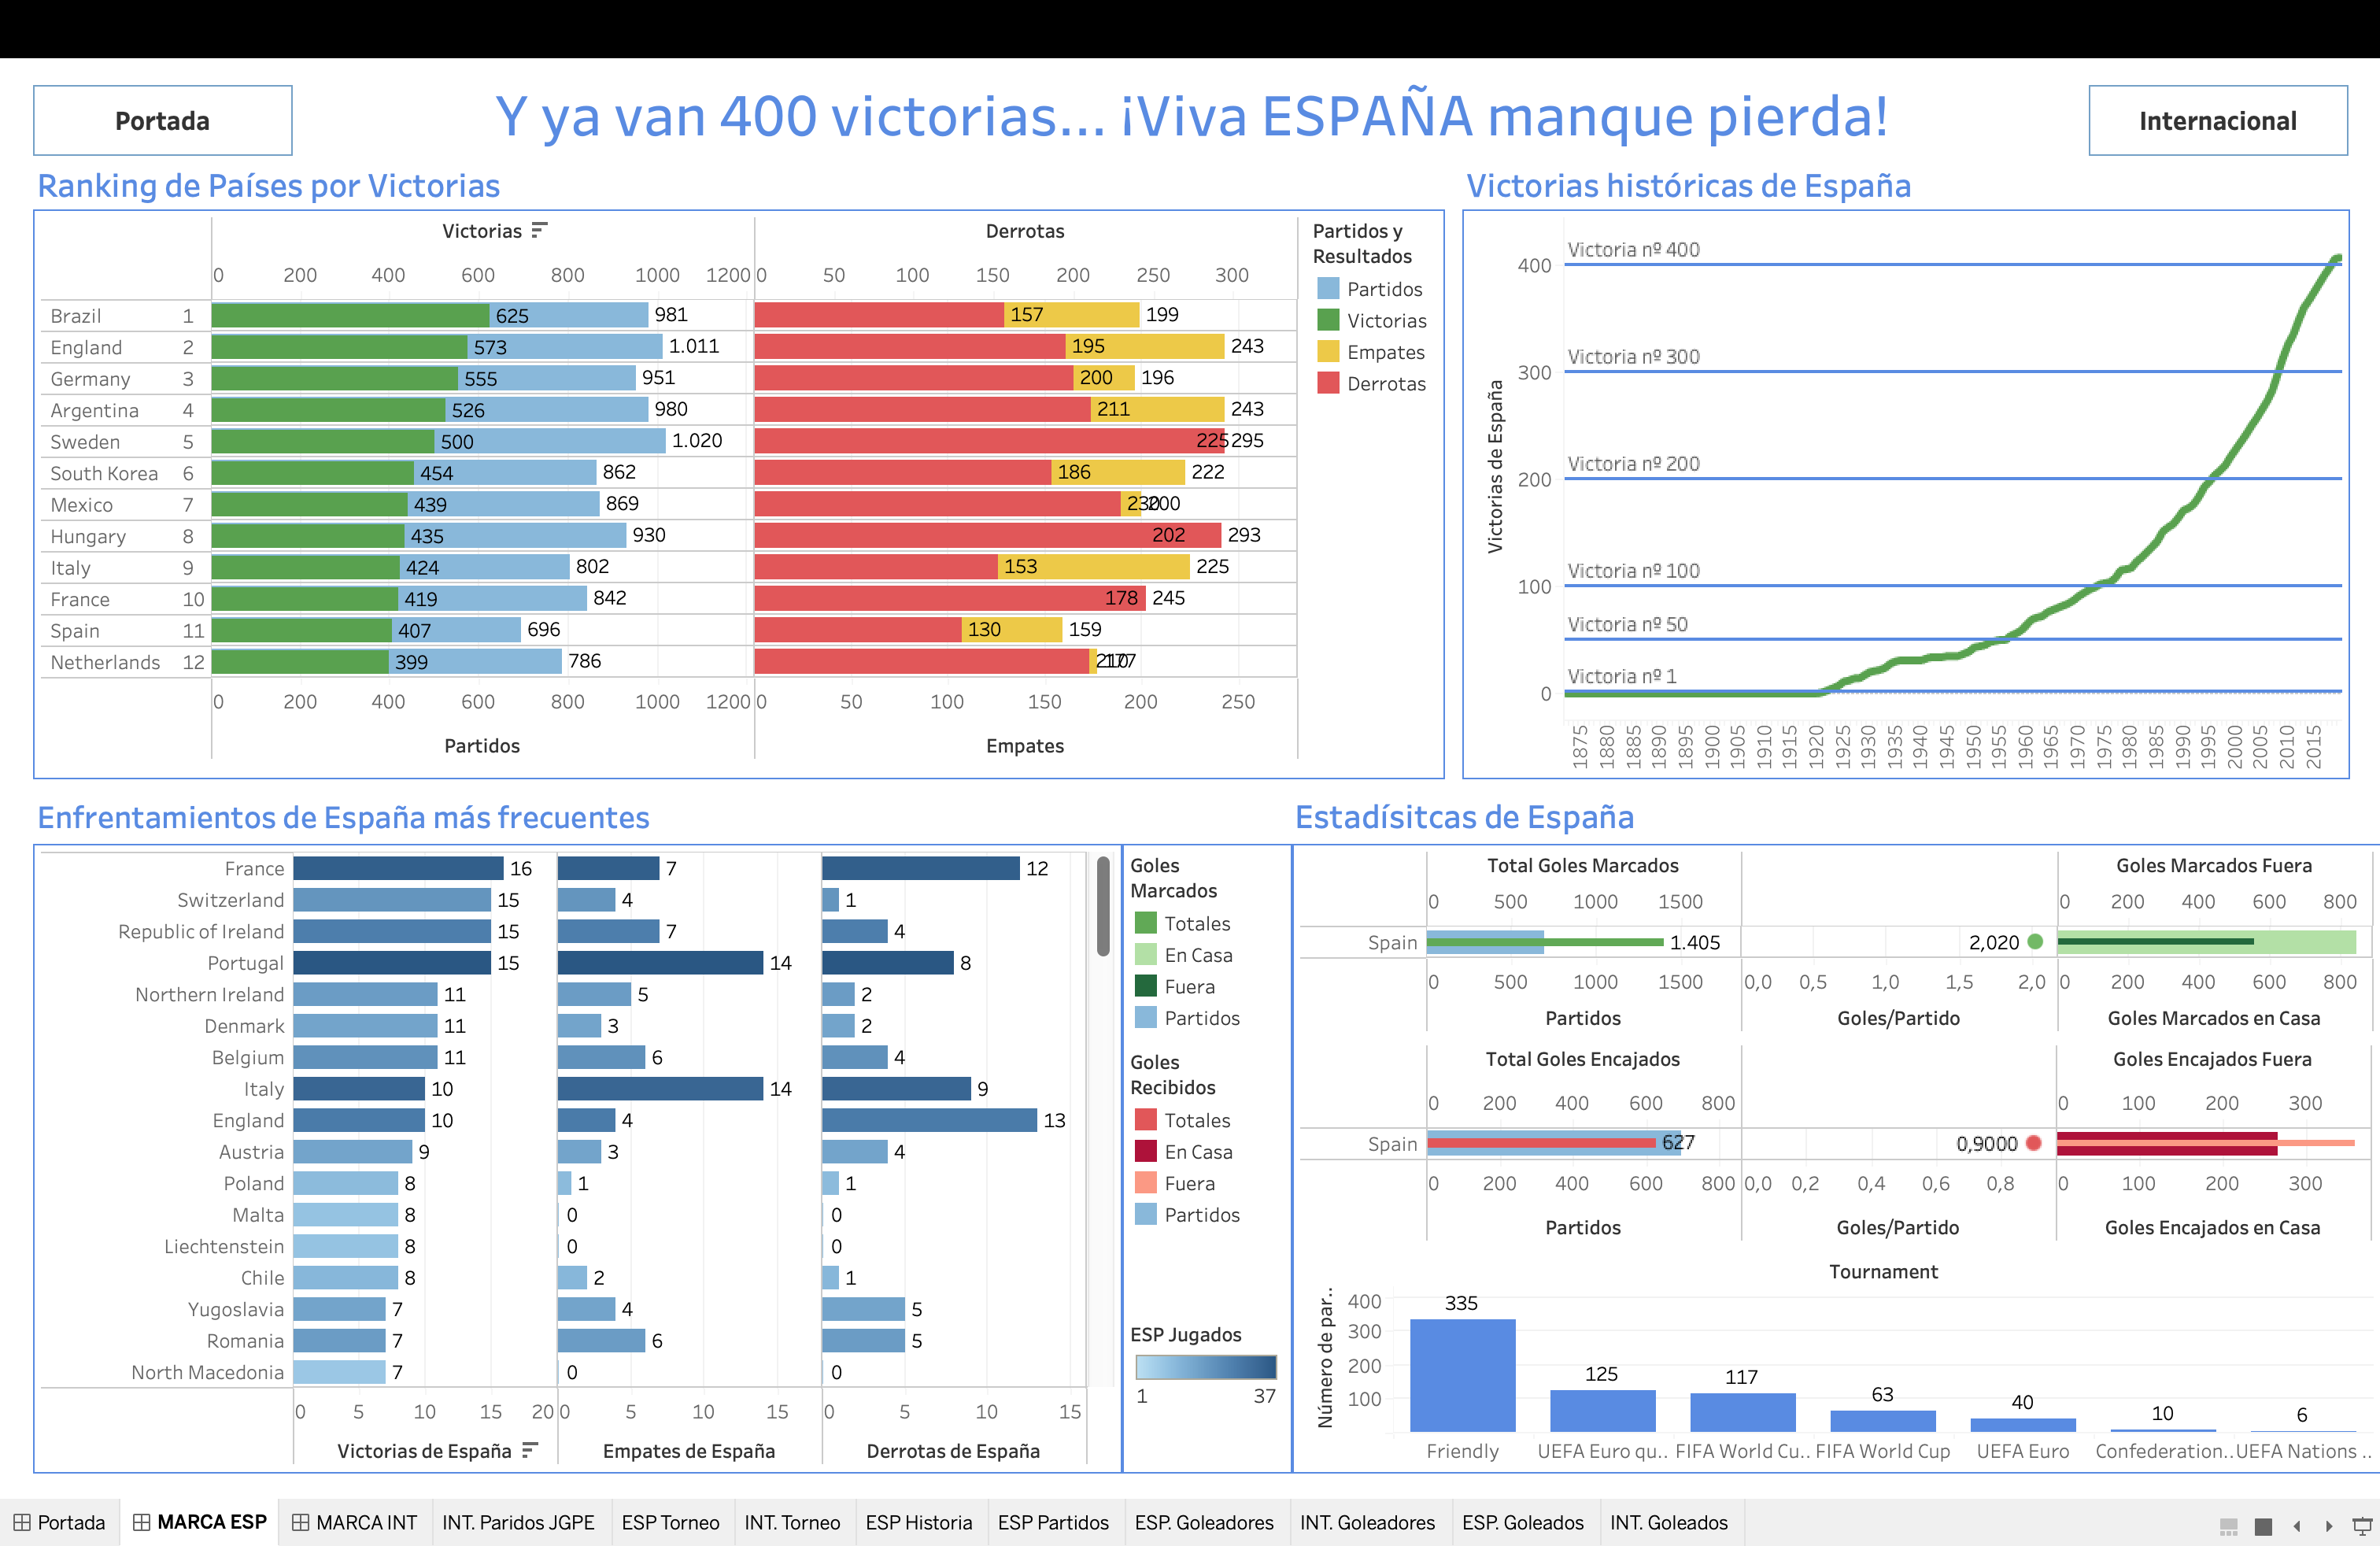

What the dashboard file says about the page in this screenshot:
{"tool":"tableau","page":{"name":"MARCA ESP","canvas":[1500,900],"ordinal":0},"visuals":[{"type":"text","box":[4.5,3.4,1492.5,49.5]},{"type":"dashboard-object","box":[15,10,165,45]},{"type":"dashboard-object","box":[1321,10,165,45]},{"type":"text","box":[15,56.2,693,33.8]},{"type":"text","box":[922.5,56.2,562.5,33.8]},{"type":"worksheet","title":"INT. Paridos JGPE","mark":"Bar","rows":["Team","Calculation_1713197480478769155"],"cols":["Calculation_1713197480482144263","Calculation_1703627331219632129","numVictorias (copia)_1713197480469565441","numVictorias (copia)_1713197480469405696"],"box":[16,90,808,360]},{"type":"legend","title":"INT. Paridos JGPE","param":"[federated.0mho85w0a3l3a516y5sgc1orto4c].[:Measure Names]","box":[824,90,87,360]},{"type":"worksheet","title":"ESP Historia","mark":"Automatic","rows":["Calculation_1713197480857837613"],"cols":["date"],"box":[924,90,562,360]},{"type":"text","box":[15,457,800,35]},{"type":"text","box":[814,457,690,35]},{"type":"worksheet","title":"ESP Partidos","mark":"Automatic","rows":["Team"],"cols":["Calculation_1713197480857837613","ESP Victorias (copia 2)_1713197480859680818","ESP Victorias (copia)_1713197480859463729"],"box":[16,493,690,398]},{"type":"legend","title":"ESP. Goleadores","param":"[federated.0mho85w0a3l3a516y5sgc1orto4c].[:Measure Names]","box":[708,493,106,125]},{"type":"worksheet","title":"ESP. Goleadores","mark":"Bar","rows":["Team"],"cols":["Calculation_1713197480482144263","Calculation_1713197480753946650","Calculation_1713197480740663320","Calculation_1713197480727781391","Calculation_1713197480727486478"],"box":[816,493,690,123]},{"type":"worksheet","title":"ESP. Goleados","mark":"Bar","rows":["Team"],"cols":["Calculation_1713197480482144263","Calculation_1713197480753999899","Ratio golesMarcadosXpartido (copia)_1713197480827256875","Goles R (copia)_1713197480821501993","Goles R (copia) (copia)_1713197480821514282"],"box":[816,616,690,133]},{"type":"legend","title":"ESP. Goleados","param":"[federated.0mho85w0a3l3a516y5sgc1orto4c].[:Measure Names]","box":[708,618,106,123]},{"type":"blank","box":[708,741,106,50]},{"type":"worksheet","title":"ESP Torneo","mark":"Automatic","rows":["results_C67A431140BA41E1A0DCA349696B96E7"],"cols":["tournament"],"box":[816,749,690,142]},{"type":"legend","title":"ESP Partidos","param":"[federated.0mho85w0a3l3a516y5sgc1orto4c].[sum:Calculation_1713197480869142579:qk","box":[708,791,106,70]}]}

Visuals, with their boxes on the page's 1500x900 design canvas (x1, y1, x2, y2). These are canvas units, not pixel positions in the 2380x1546 screenshot, which may show the page scaled, cropped or inside an application window:
text: detection(4, 3, 1497, 53)
dashboard-object: detection(15, 10, 180, 55)
dashboard-object: detection(1321, 10, 1486, 55)
text: detection(15, 56, 708, 90)
text: detection(922, 56, 1485, 90)
"INT. Paridos JGPE" worksheet (Bar marks): detection(16, 90, 824, 450)
"INT. Paridos JGPE" legend: detection(824, 90, 911, 450)
"ESP Historia" worksheet: detection(924, 90, 1486, 450)
text: detection(15, 457, 815, 492)
text: detection(814, 457, 1504, 492)
"ESP Partidos" worksheet: detection(16, 493, 706, 891)
"ESP. Goleadores" legend: detection(708, 493, 814, 618)
"ESP. Goleadores" worksheet (Bar marks): detection(816, 493, 1506, 616)
"ESP. Goleados" worksheet (Bar marks): detection(816, 616, 1506, 749)
"ESP. Goleados" legend: detection(708, 618, 814, 741)
blank: detection(708, 741, 814, 791)
"ESP Torneo" worksheet: detection(816, 749, 1506, 891)
"ESP Partidos" legend: detection(708, 791, 814, 861)
